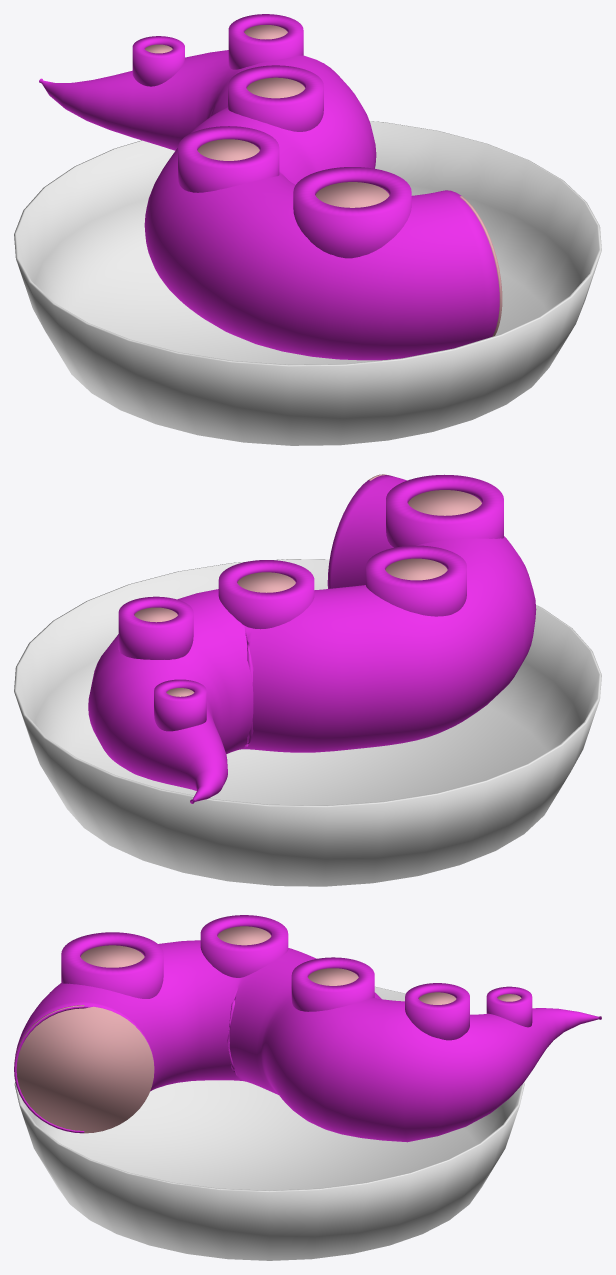
The model's file is TentaclePlate.fbx.
The picture shows the model from 3 angles, top to bottom: view 1: azimuth 30°, elevation 25°; view 2: azimuth 150°, elevation 25°; view 3: azimuth 270°, elevation 25°; orthographic projection. The views are drawn at different scales.
Visible parts, largest first — view 1: TENTACLEPLATE; view 2: TENTACLEPLATE; view 3: TENTACLEPLATE.
Part boxes in pixels (x1,y1,x2,y2): TENTACLEPLATE: [14, 14, 601, 445]; TENTACLEPLATE: [14, 474, 601, 886]; TENTACLEPLATE: [14, 915, 601, 1260].
Size of the model in its own units: 131 by 151 by 55.7.
